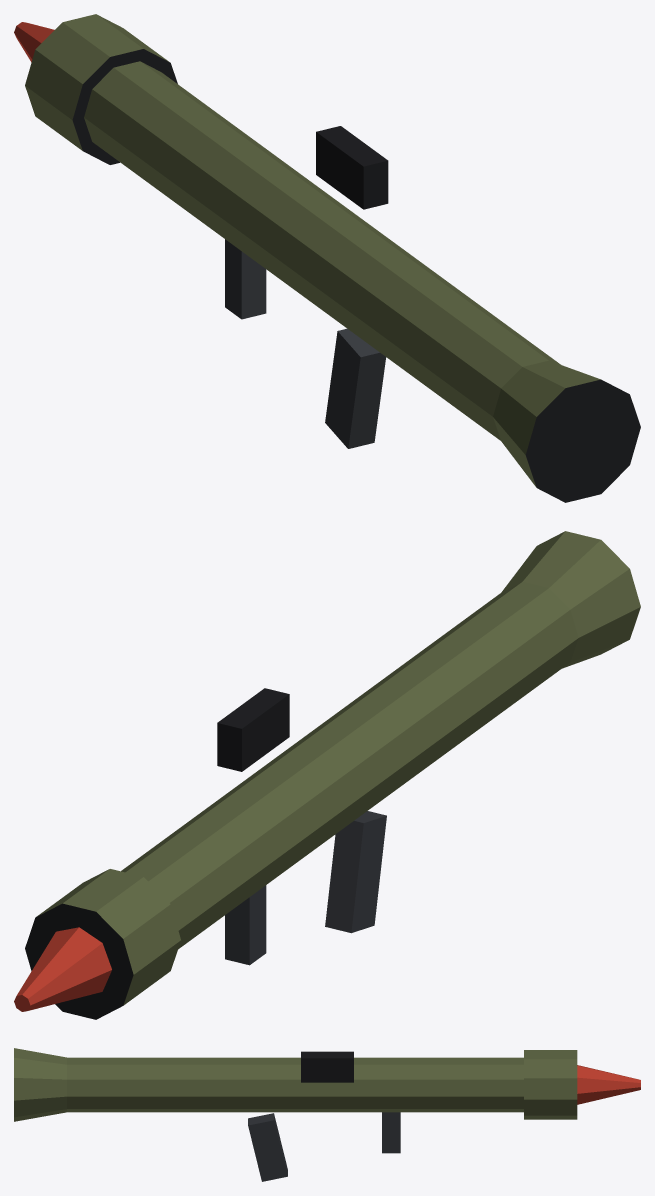
The model's file is w_rocket_launcher.glb.
3 views of the same model, one above another, from view 1: azimuth 30°, elevation 25°; view 2: azimuth 150°, elevation 25°; view 3: azimuth 270°, elevation 25° (orthographic). The views are drawn at different scales.
Visible parts, largest first — view 1: w_rocket_launcher; view 2: w_rocket_launcher; view 3: w_rocket_launcher.
Part boxes in pixels (x1,y1,x2,y2): w_rocket_launcher: [14, 14, 640, 502]; w_rocket_launcher: [14, 531, 640, 1019]; w_rocket_launcher: [14, 1048, 640, 1181].
Size of the model in its own units: 0.145 by 0.284 by 1.18.
